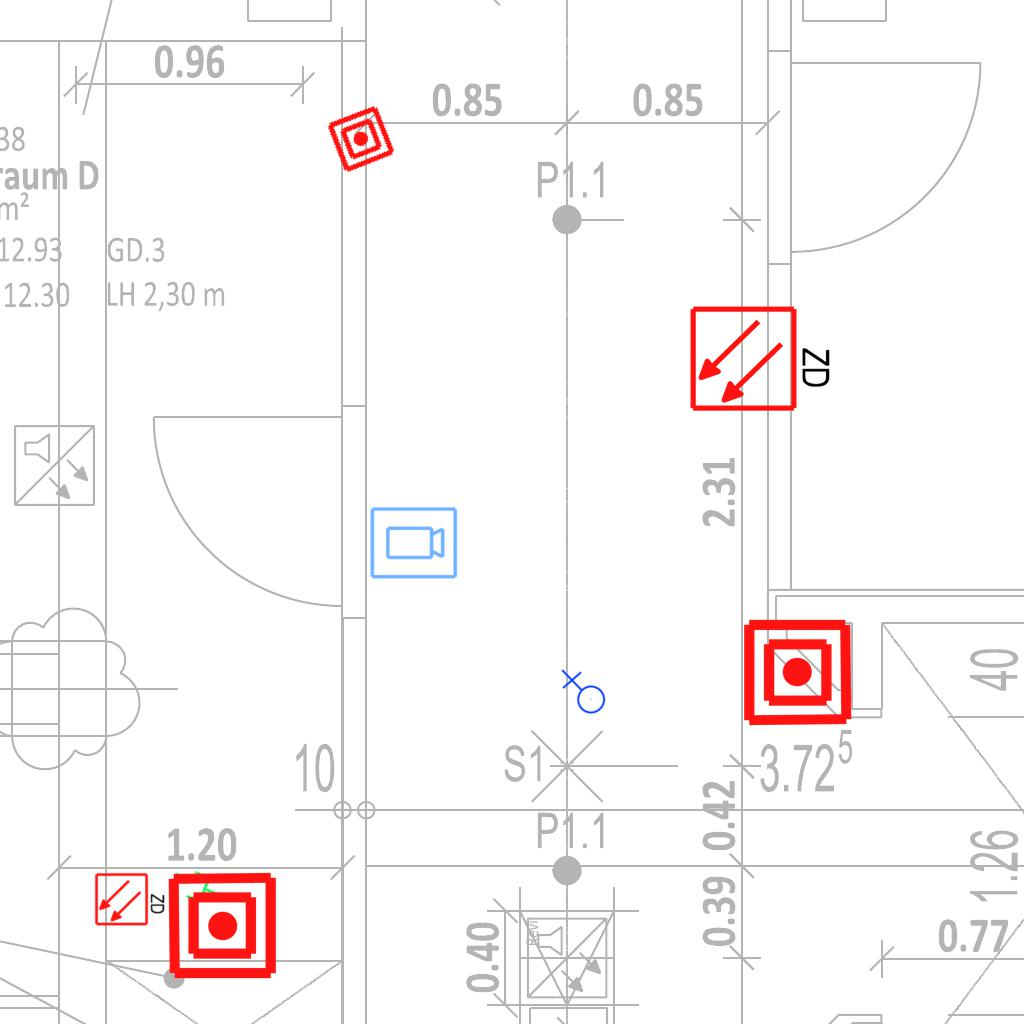Datenanschluss_einfach: (166, 862, 226, 912)
Elektroanschluss_allgemein_230V_Geraeteanschlussdose_230V: (559, 669, 606, 718)
KFO_Kamera_mit_Festobjektiv: (368, 505, 459, 582)
NAM-Nichtautomatischer_Melder: (741, 616, 854, 729), (166, 869, 279, 982), (324, 102, 398, 176)
ZD_Melder_in_Zwischendecke_mit_Revisionsoeffnung_mind_40_x_40_cm: (688, 300, 837, 414), (94, 870, 168, 927)
